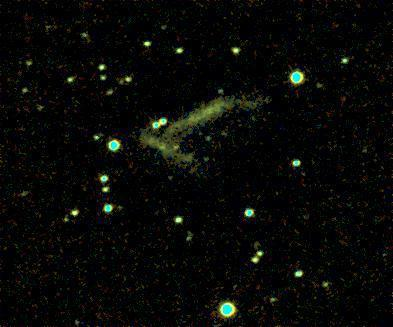star: (61, 306, 91, 327)
